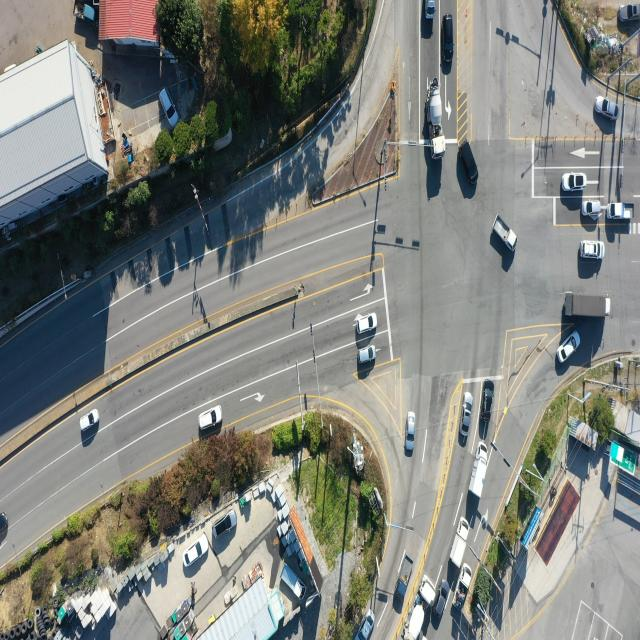car: (184, 537, 209, 569), (459, 141, 477, 184), (558, 331, 580, 365), (160, 84, 178, 121), (460, 393, 473, 442), (594, 93, 618, 119), (213, 513, 235, 541), (482, 376, 496, 420), (198, 407, 222, 432), (355, 609, 373, 640), (433, 584, 448, 620), (355, 312, 377, 336), (444, 16, 455, 62), (562, 172, 586, 192), (79, 410, 99, 433), (407, 414, 417, 456), (618, 3, 640, 22), (582, 241, 605, 259), (356, 345, 375, 365), (583, 200, 603, 217), (0, 512, 8, 535)
medium_truck: (406, 578, 433, 640), (428, 86, 444, 160), (565, 292, 610, 318)
small_truck: (470, 444, 491, 502), (394, 553, 414, 611), (450, 516, 471, 568), (280, 562, 307, 598), (493, 215, 518, 250), (453, 570, 472, 614), (74, 0, 97, 25), (610, 202, 636, 222), (424, 0, 436, 19)
